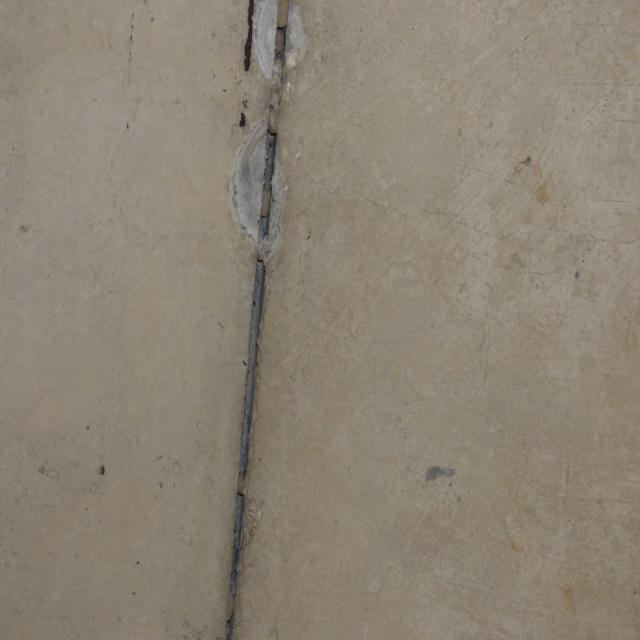corrosion: (202, 0, 318, 640)
